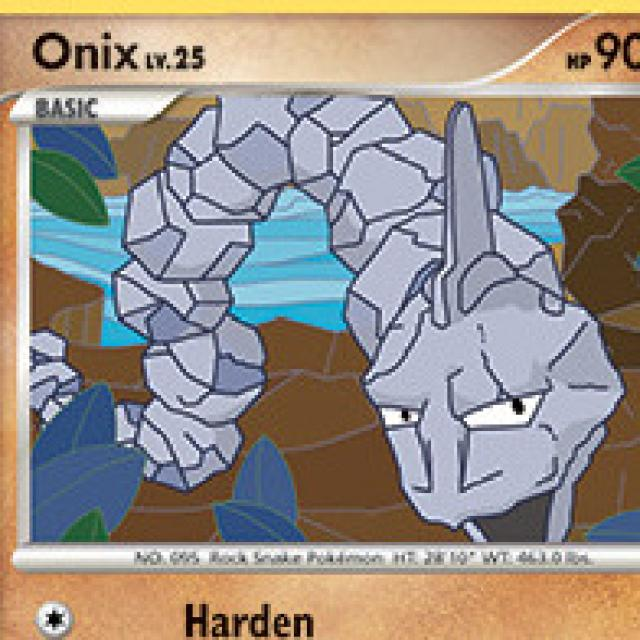Onix: (130, 109, 623, 494)
